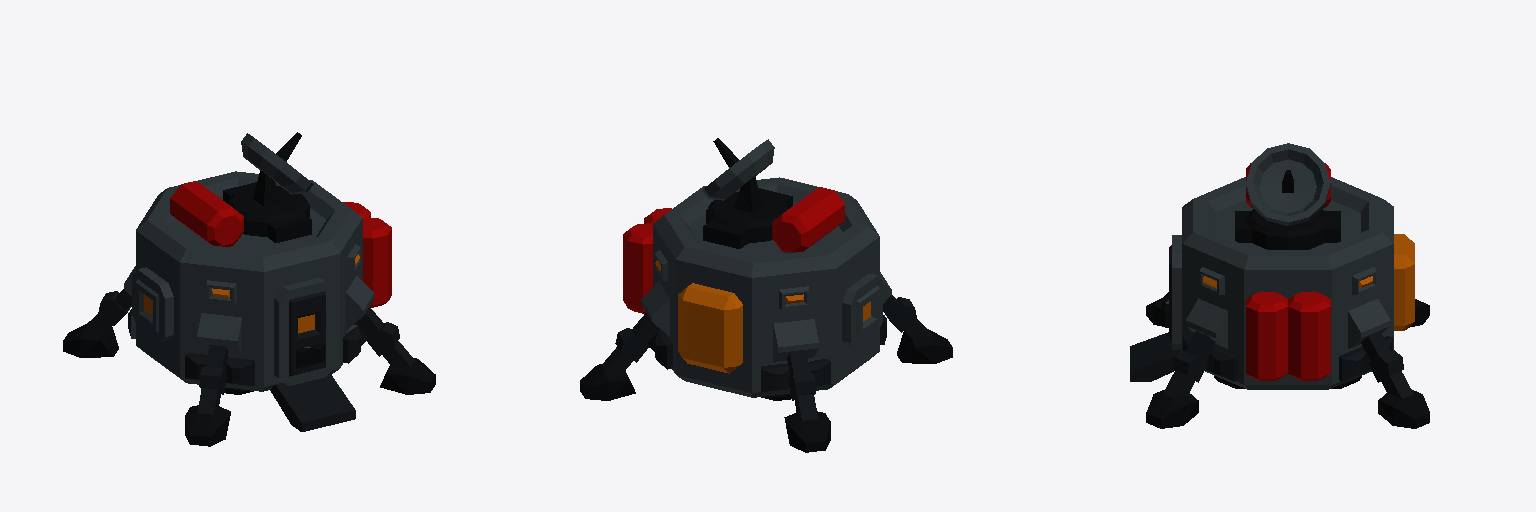
Rendered from lander_A.obj.
The picture shows the model from 3 angles: view 1: azimuth 30°, elevation 25°; view 2: azimuth 150°, elevation 25°; view 3: azimuth 270°, elevation 25°; orthographic projection.
Parts seen in each view (by area): view 1: lander_A; view 2: lander_A; view 3: lander_A.
Boxes of the visible parts, x1,y1,x2,y2 form: lander_A: [63, 132, 435, 446]; lander_A: [580, 138, 952, 452]; lander_A: [1130, 143, 1429, 428].
Bounding box in the file's own units: 13.72 × 11.92 × 14.22.